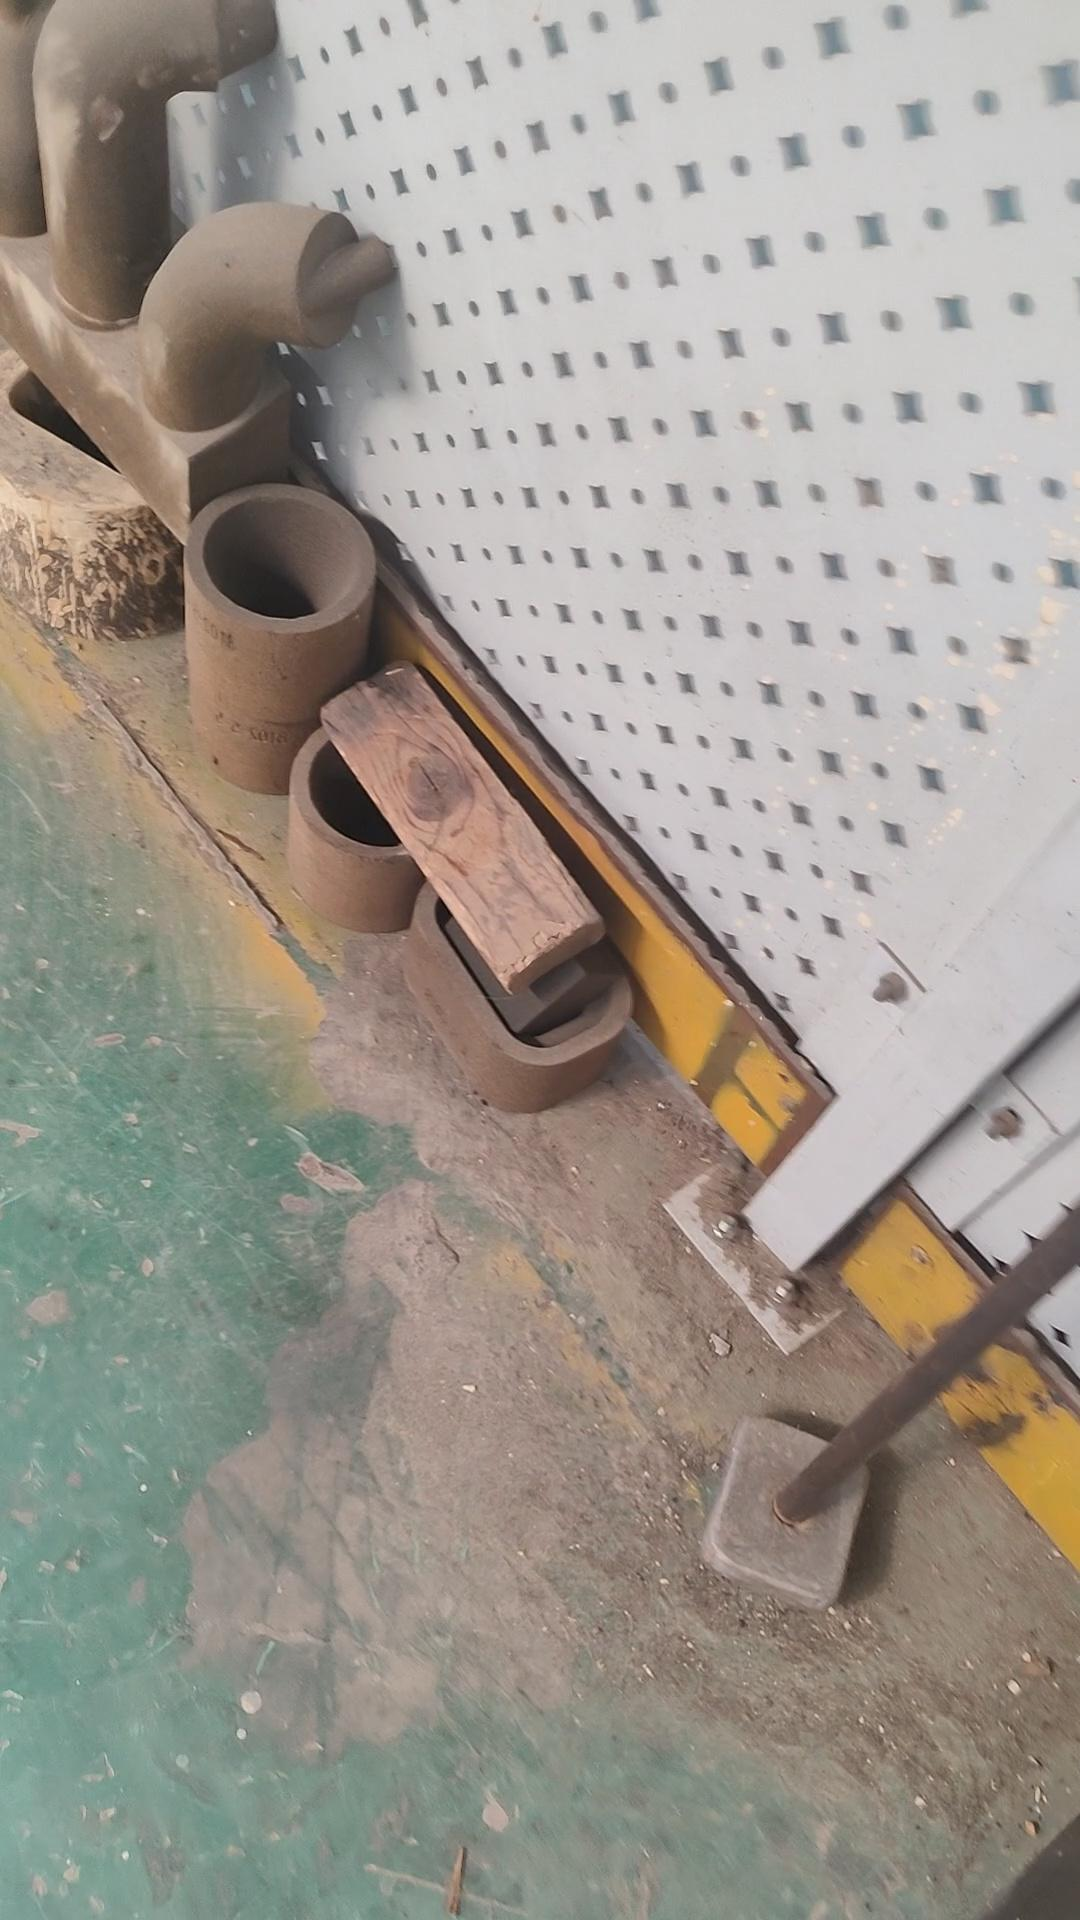pouring hole: (202, 497, 355, 617), (309, 732, 429, 847)
